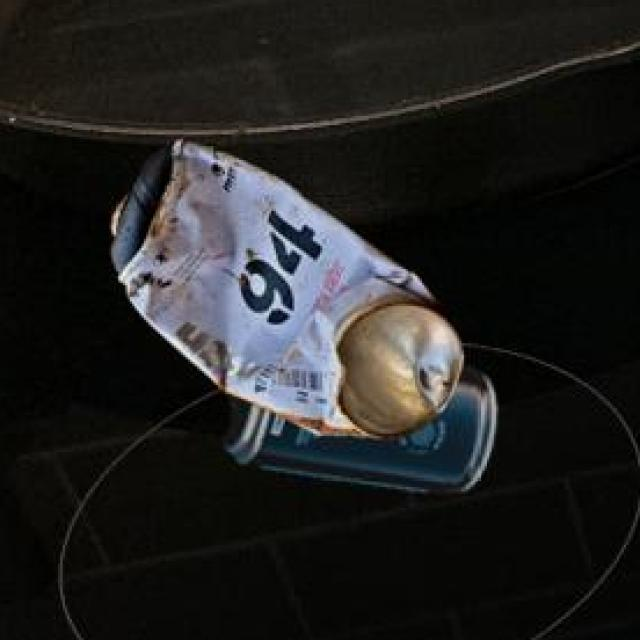logam: (108, 136, 460, 435), (221, 361, 493, 488)
